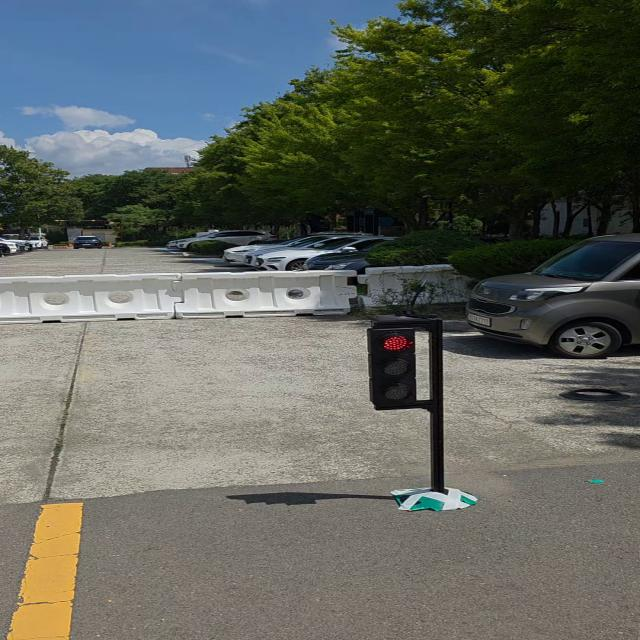red: (363, 328, 426, 408)
